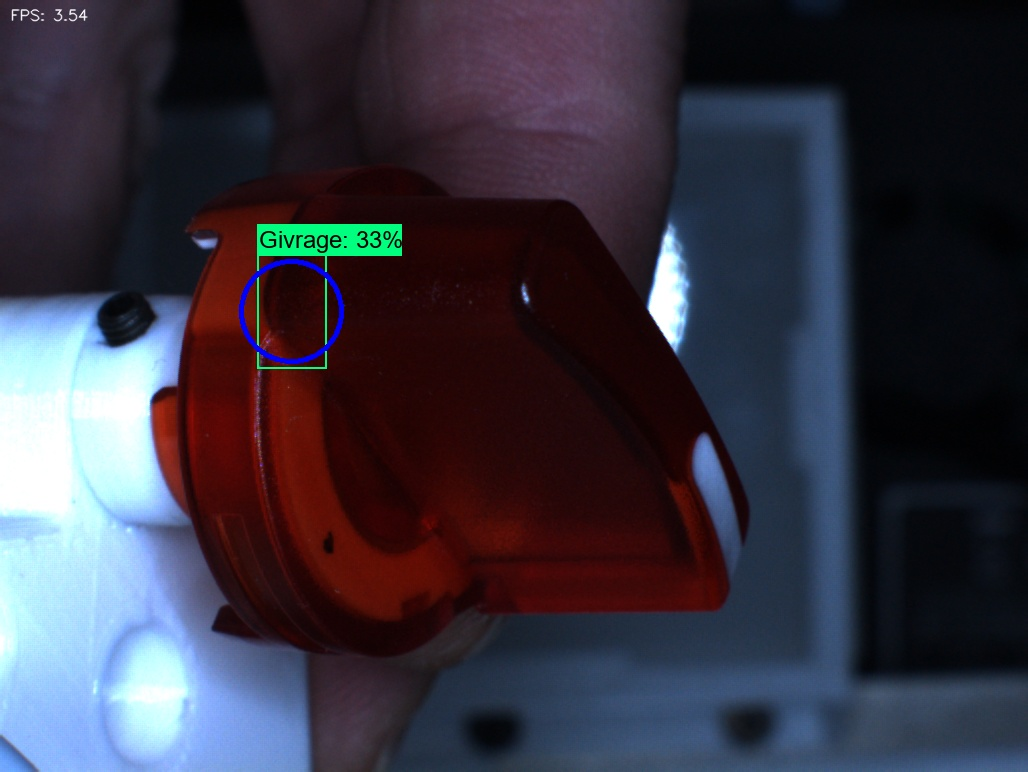PointNoir: (283, 501, 365, 580)
